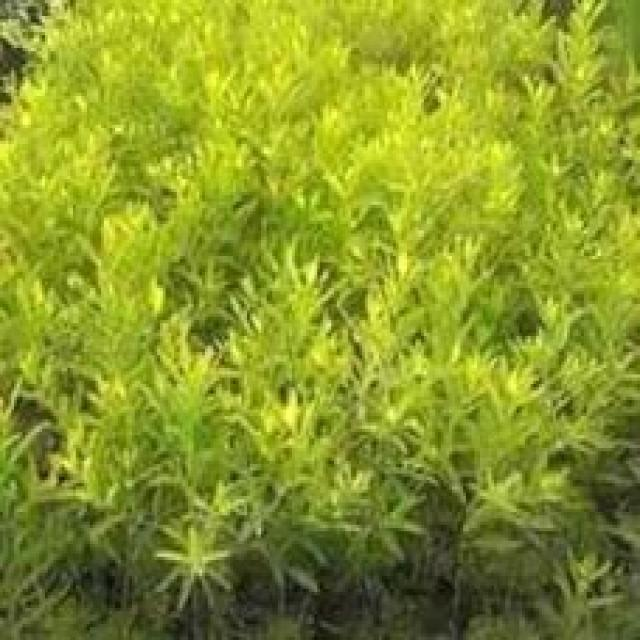Medicinal-Sandalwood: (38, 38, 606, 600)
